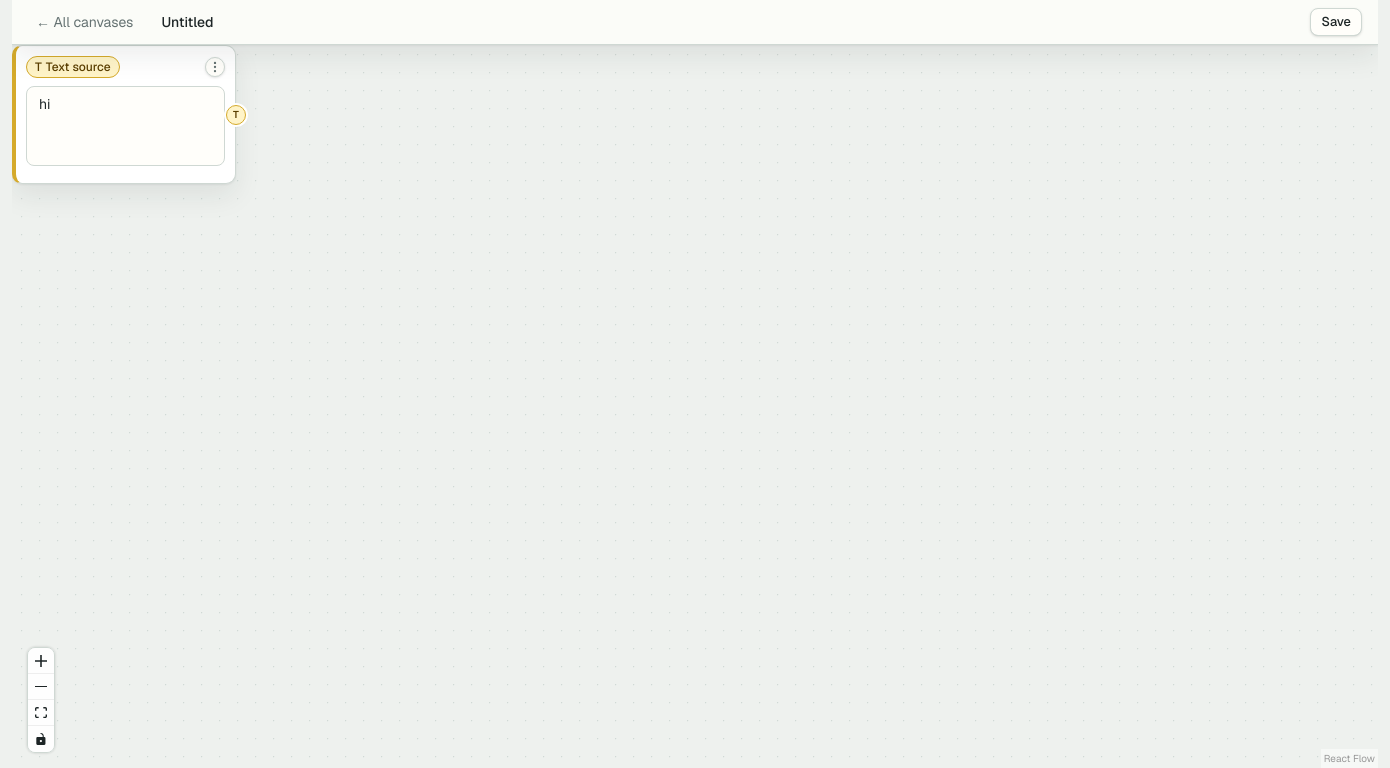
Test: CanvasEditor node actions menu (delete/duplicate) › shows Duplicate and Delete when a node's actions button is opened
Click the button named "Node actions".
click(215, 67)  # box [205,57,225,77]
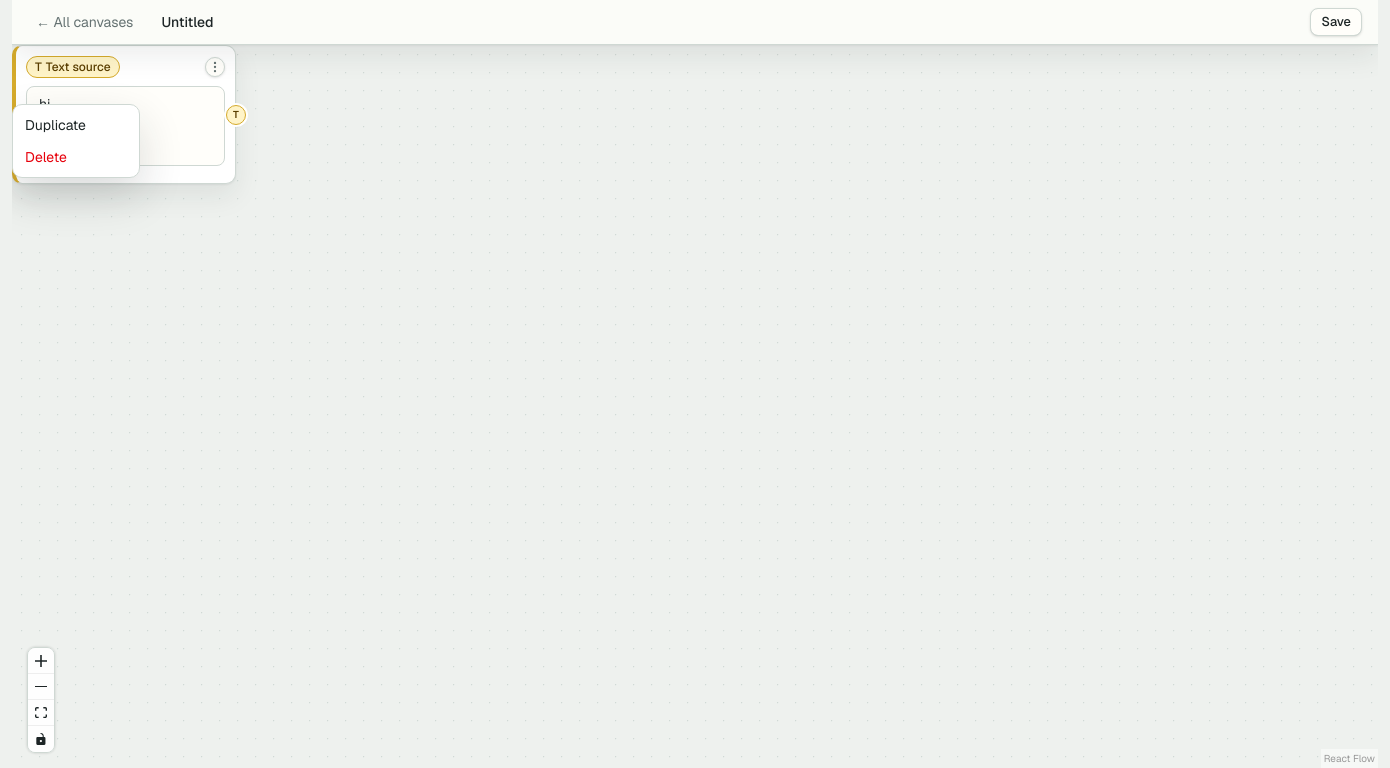
Result: the menu item "Duplicate" is shown at [25,116,86,134]
Result: the menu item "Delete" is shown at [25,148,67,166]
